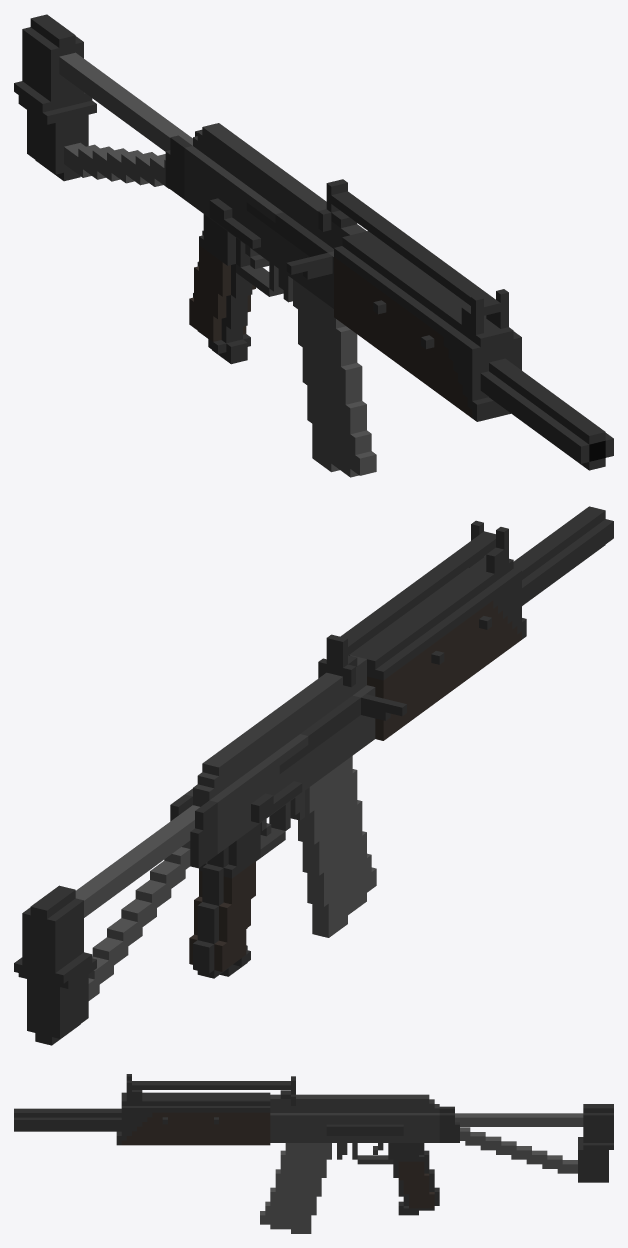
Rendered from Shotgun_2.obj.
3 views of the same model, one above another, from view 1: azimuth 30°, elevation 25°; view 2: azimuth 150°, elevation 25°; view 3: azimuth 270°, elevation 25° (orthographic). The views are drawn at different scales.
Size of the model in its own units: 11 by 33 by 117.
